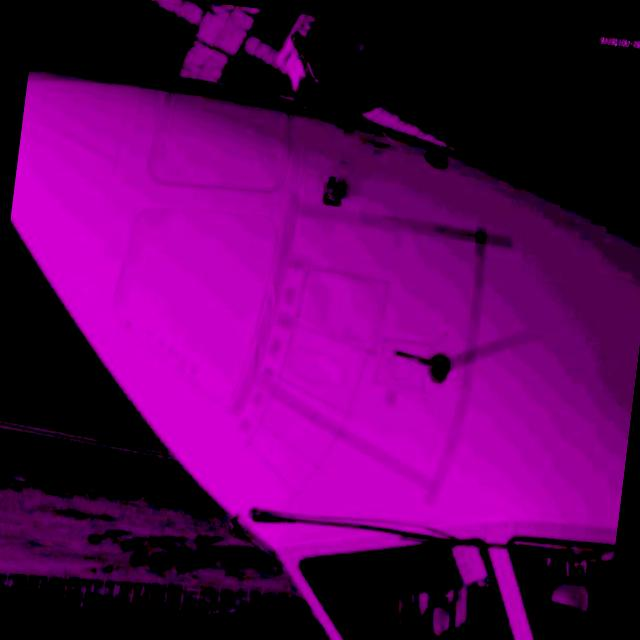dent: (306, 271, 376, 341), (293, 348, 345, 388), (388, 353, 410, 380)
